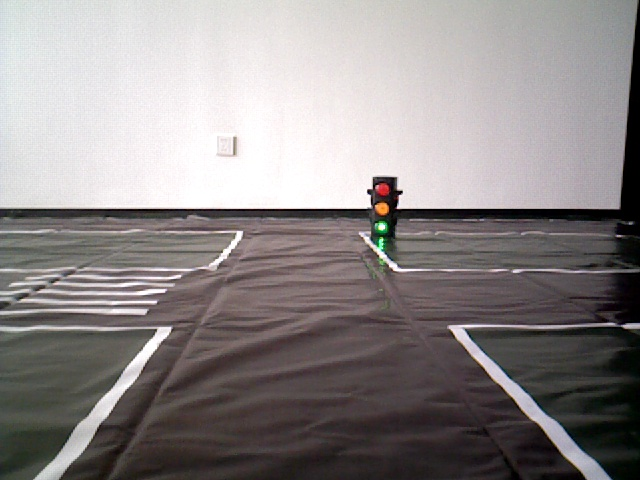green: (370, 178, 390, 236)
